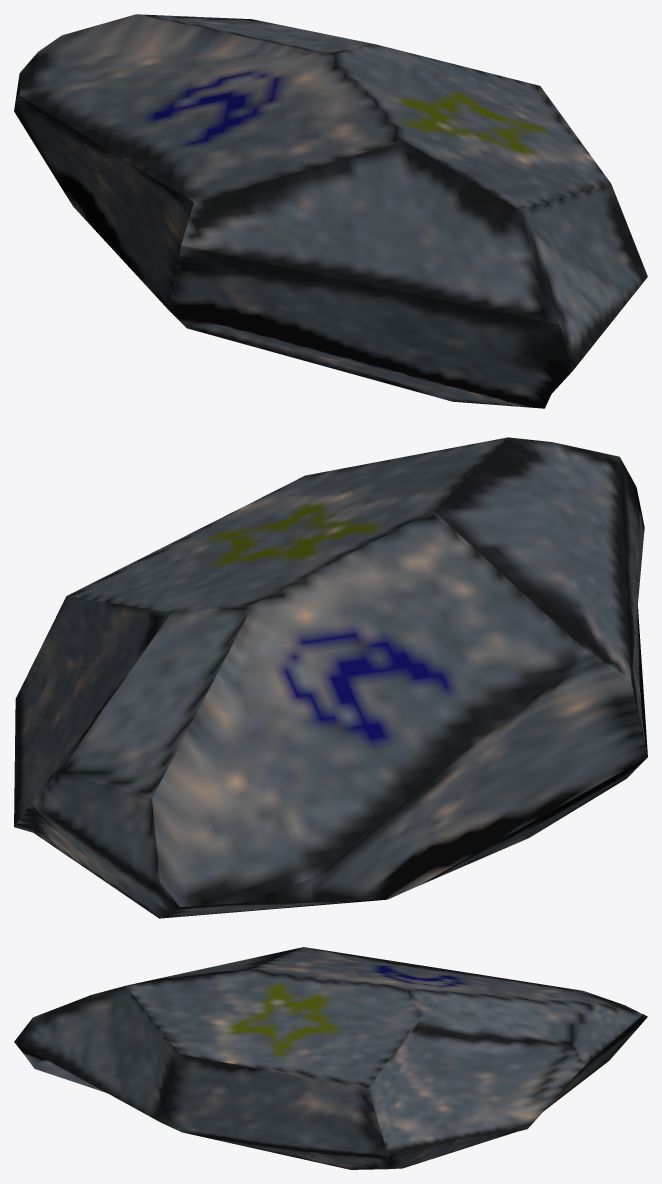
File: stone.fbx
3 renders of one model, top to bottom at view 1: azimuth 30°, elevation 25°; view 2: azimuth 150°, elevation 25°; view 3: azimuth 270°, elevation 25°, orthographic. The views are drawn at different scales.
Parts seen in each view (by area): view 1: Cube; view 2: Cube; view 3: Cube.
Boxes of the visible parts, <box> form: Cube: <box>14,14,647,408</box>; Cube: <box>14,437,647,918</box>; Cube: <box>14,947,647,1169</box>.
Bounding box in the file's own units: 286 × 135 × 496.
